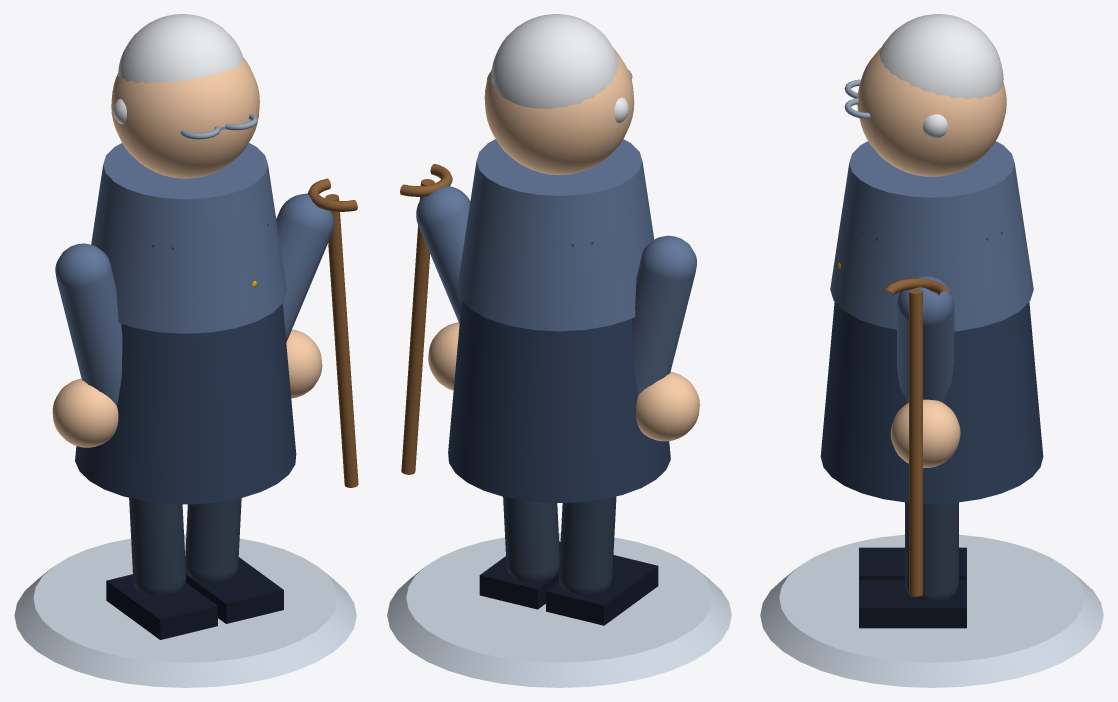
The model's file is elderly.glb.
3 views of the same model, side by side, from view 1: azimuth 30°, elevation 25°; view 2: azimuth 150°, elevation 25°; view 3: azimuth 270°, elevation 25° (orthographic).
Parts seen in each view (by area): view 1: BodyRig, Pedestal, Cane; view 2: BodyRig, Pedestal, Cane; view 3: BodyRig, Pedestal, Cane.
Boxes of the visible parts, x1,y1,x2,y2 form: BodyRig: [52, 14, 334, 639]; Pedestal: [14, 534, 356, 687]; Cane: [307, 178, 358, 487]; BodyRig: [416, 14, 699, 625]; Pedestal: [387, 533, 731, 687]; Cane: [400, 164, 452, 474]; BodyRig: [820, 14, 1043, 628]; Pedestal: [760, 534, 1103, 687]; Cane: [882, 278, 950, 596].
Size of the model in its own units: 1.14 by 2.06 by 1.08.
